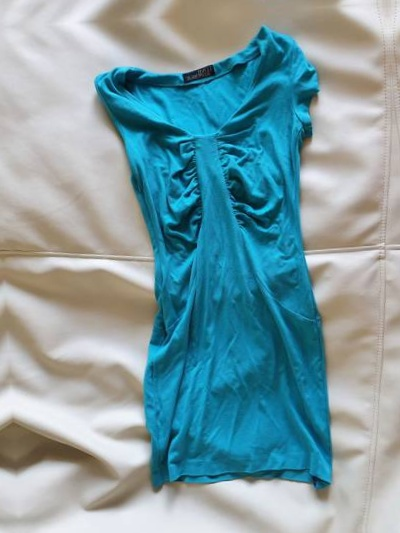Dress: (63, 18, 394, 515), (31, 0, 362, 10)
